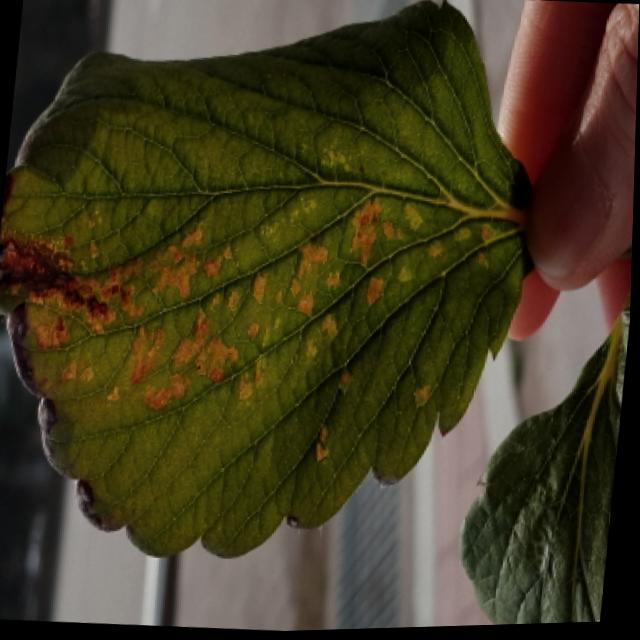Angular Leafspot: (0, 142, 508, 533)
